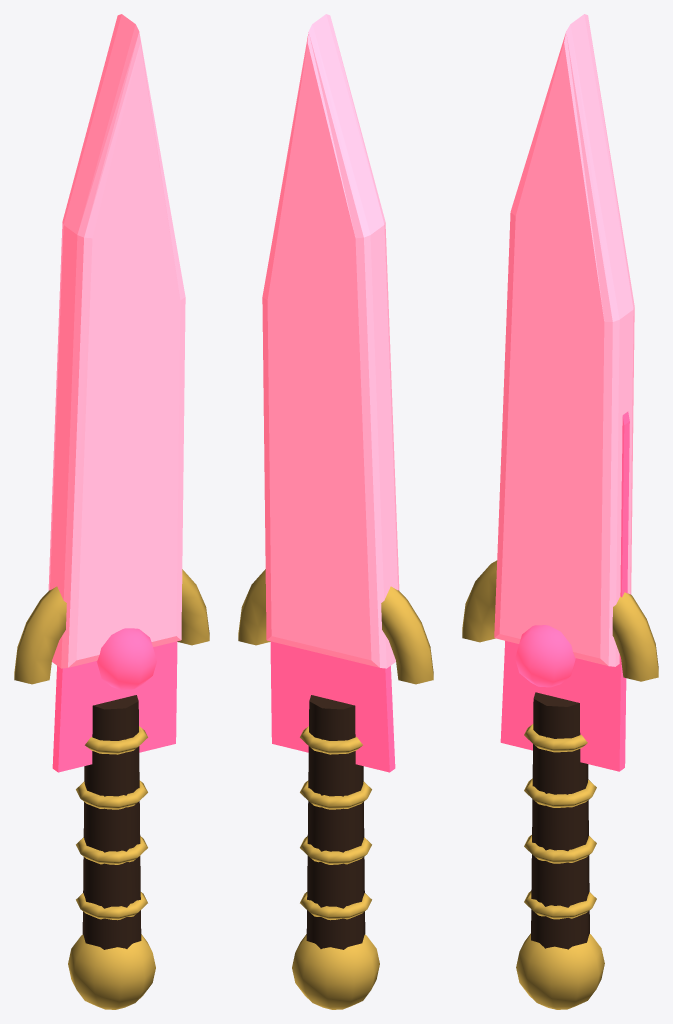
File: dagger_f0_f3b14d58.glb
The picture shows the model from 3 angles, left to right: view 1: azimuth 30°, elevation 25°; view 2: azimuth 150°, elevation 25°; view 3: azimuth 330°, elevation 25°; orthographic projection.
Parts seen in each view (by area): view 1: m1_ow80_, m4_ow80_, m3_ow80_, m0_gm130_, m2_gm160_; view 2: m1_ow80_, m4_ow80_, m3_ow80_, m0_gm130_; view 3: m1_ow80_, m4_ow80_, m3_ow80_, m0_gm130_, m2_gm160_.
Boxes of the visible parts, x1,y1,x2,y2 form: m1_ow80_: [48, 14, 185, 668]; m4_ow80_: [14, 569, 209, 1009]; m3_ow80_: [82, 695, 141, 949]; m0_gm130_: [52, 641, 177, 772]; m2_gm160_: [96, 628, 156, 689]; m1_ow80_: [262, 14, 399, 668]; m4_ow80_: [238, 569, 433, 1009]; m3_ow80_: [306, 695, 365, 949]; m0_gm130_: [270, 641, 395, 772]; m1_ow80_: [494, 14, 634, 666]; m4_ow80_: [462, 560, 658, 1009]; m3_ow80_: [531, 692, 589, 949]; m0_gm130_: [500, 411, 629, 771]; m2_gm160_: [515, 625, 575, 687].
Size of the model in its own units: 0.244 by 1.17 by 0.1107.
